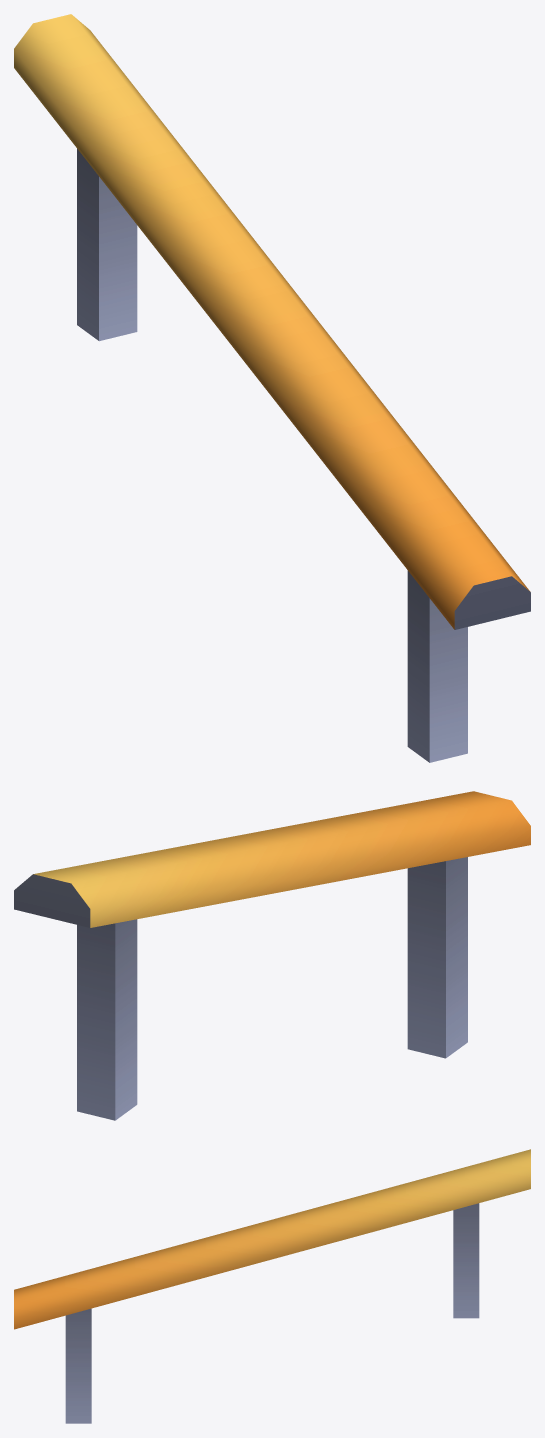
Rendered from kenney-space-station-stairs-handrail-single.glb.
The picture shows the model from 3 angles, top to bottom: view 1: azimuth 30°, elevation 25°; view 2: azimuth 150°, elevation 25°; view 3: azimuth 270°, elevation 25°; orthographic projection. The views are drawn at different scales.
Visible parts, largest first — view 1: stairs-handrail-single; view 2: stairs-handrail-single; view 3: stairs-handrail-single.
Part boxes in pixels (<box>): stairs-handrail-single: <box>14,14,530,762</box>; stairs-handrail-single: <box>14,791,530,1120</box>; stairs-handrail-single: <box>14,1149,530,1423</box>.
Bounding box in the file's own units: 0.1 × 0.5625 × 1.
1 material, 1 textured.
